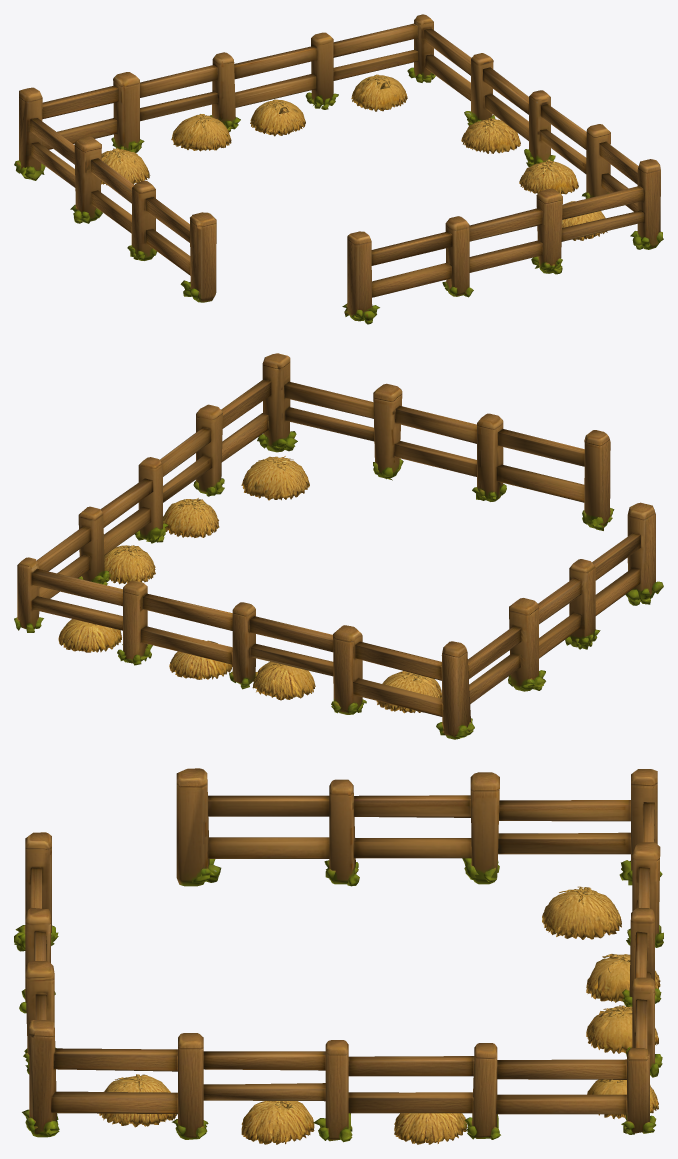
Rendered from tripo_convert_c407c0bc-ffb9-49f7-93f6-0181a1dbe5ed.fbx.
3 renders of one model, top to bottom at view 1: azimuth 30°, elevation 25°; view 2: azimuth 150°, elevation 25°; view 3: azimuth 270°, elevation 25°, orthographic. The views are drawn at different scales.
Visible parts, largest first — view 1: tripo_node_c407c0bc; view 2: tripo_node_c407c0bc; view 3: tripo_node_c407c0bc.
Part boxes in pixels (box(x1,y1,x2,y2)): tripo_node_c407c0bc: box(14, 14, 663, 324); tripo_node_c407c0bc: box(14, 353, 663, 739); tripo_node_c407c0bc: box(14, 768, 663, 1144).
Size of the model in its own units: 0.9941 by 0.1914 by 0.998.
Materials: 1 (1 with a texture image).
